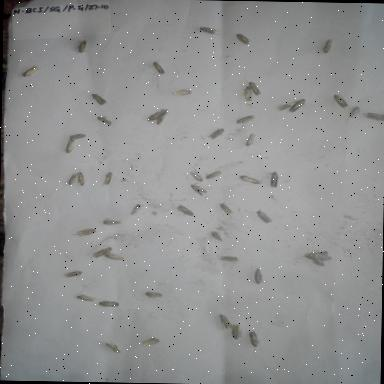pbw: (247, 329, 265, 356), (246, 265, 268, 285), (182, 180, 208, 196), (174, 202, 198, 219), (72, 288, 96, 304), (217, 202, 238, 220), (244, 78, 262, 99), (330, 92, 352, 109), (18, 62, 41, 78), (93, 244, 115, 260), (229, 321, 245, 342), (237, 172, 261, 186), (256, 208, 274, 226), (317, 38, 335, 56), (216, 313, 232, 333), (240, 132, 256, 152), (102, 338, 122, 354), (98, 216, 124, 228), (233, 112, 257, 125), (304, 255, 328, 268), (97, 299, 122, 311), (198, 24, 222, 36), (207, 127, 225, 143), (186, 166, 204, 182), (138, 335, 162, 347), (72, 227, 98, 238), (289, 98, 309, 112), (147, 108, 167, 122), (128, 203, 144, 220), (75, 38, 90, 56), (346, 104, 364, 119), (216, 254, 240, 265), (103, 251, 127, 262), (170, 88, 196, 98), (151, 60, 167, 76), (99, 171, 114, 188), (74, 170, 89, 187), (302, 249, 330, 258), (62, 268, 83, 280), (94, 115, 114, 127), (240, 84, 252, 104), (234, 32, 251, 46), (143, 290, 166, 300), (311, 253, 334, 263), (268, 170, 280, 189), (64, 138, 78, 154), (66, 131, 88, 141), (65, 172, 79, 187), (210, 227, 223, 243), (89, 94, 106, 106), (276, 102, 296, 112), (206, 170, 224, 181), (366, 109, 376, 120)
